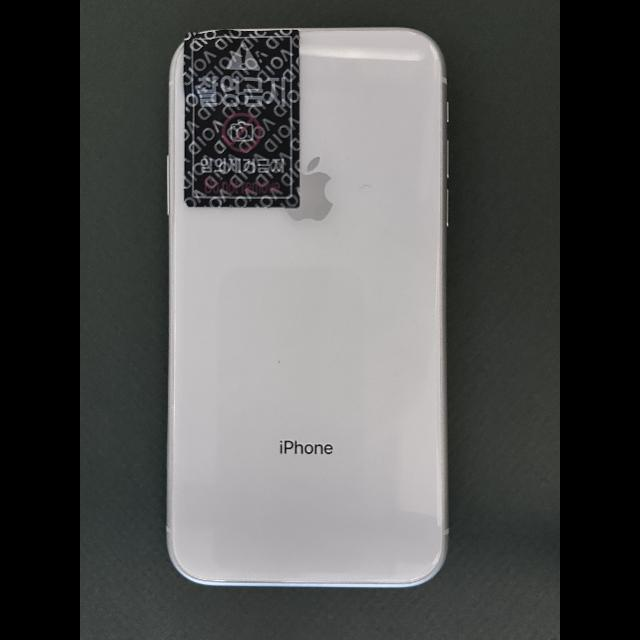phone: (165, 26, 451, 589)
sticker: (183, 29, 300, 208)
